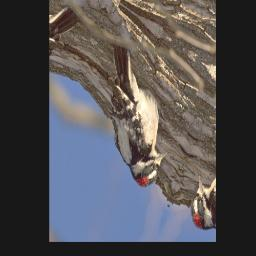Woodpecker: (78, 40, 189, 196)
